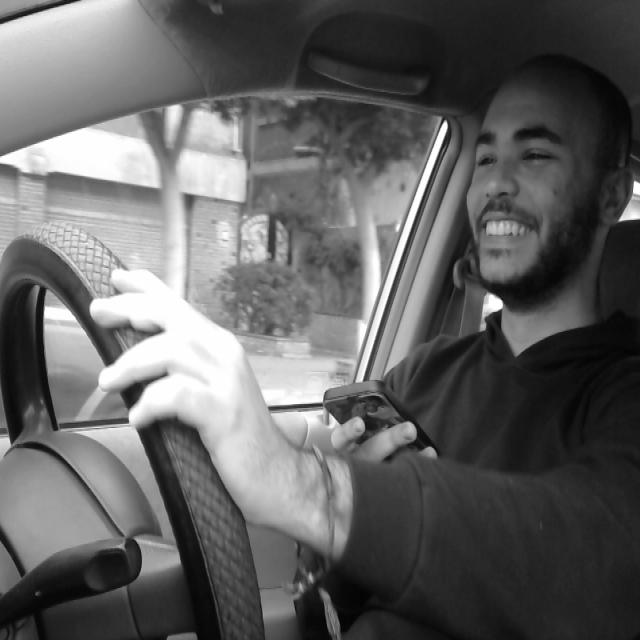mobile use: (317, 366, 445, 489)
